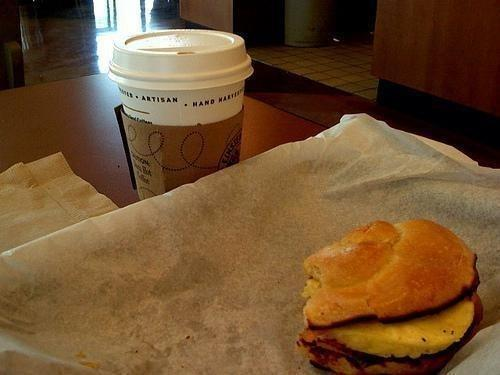cup-disposable: (104, 29, 252, 203)
